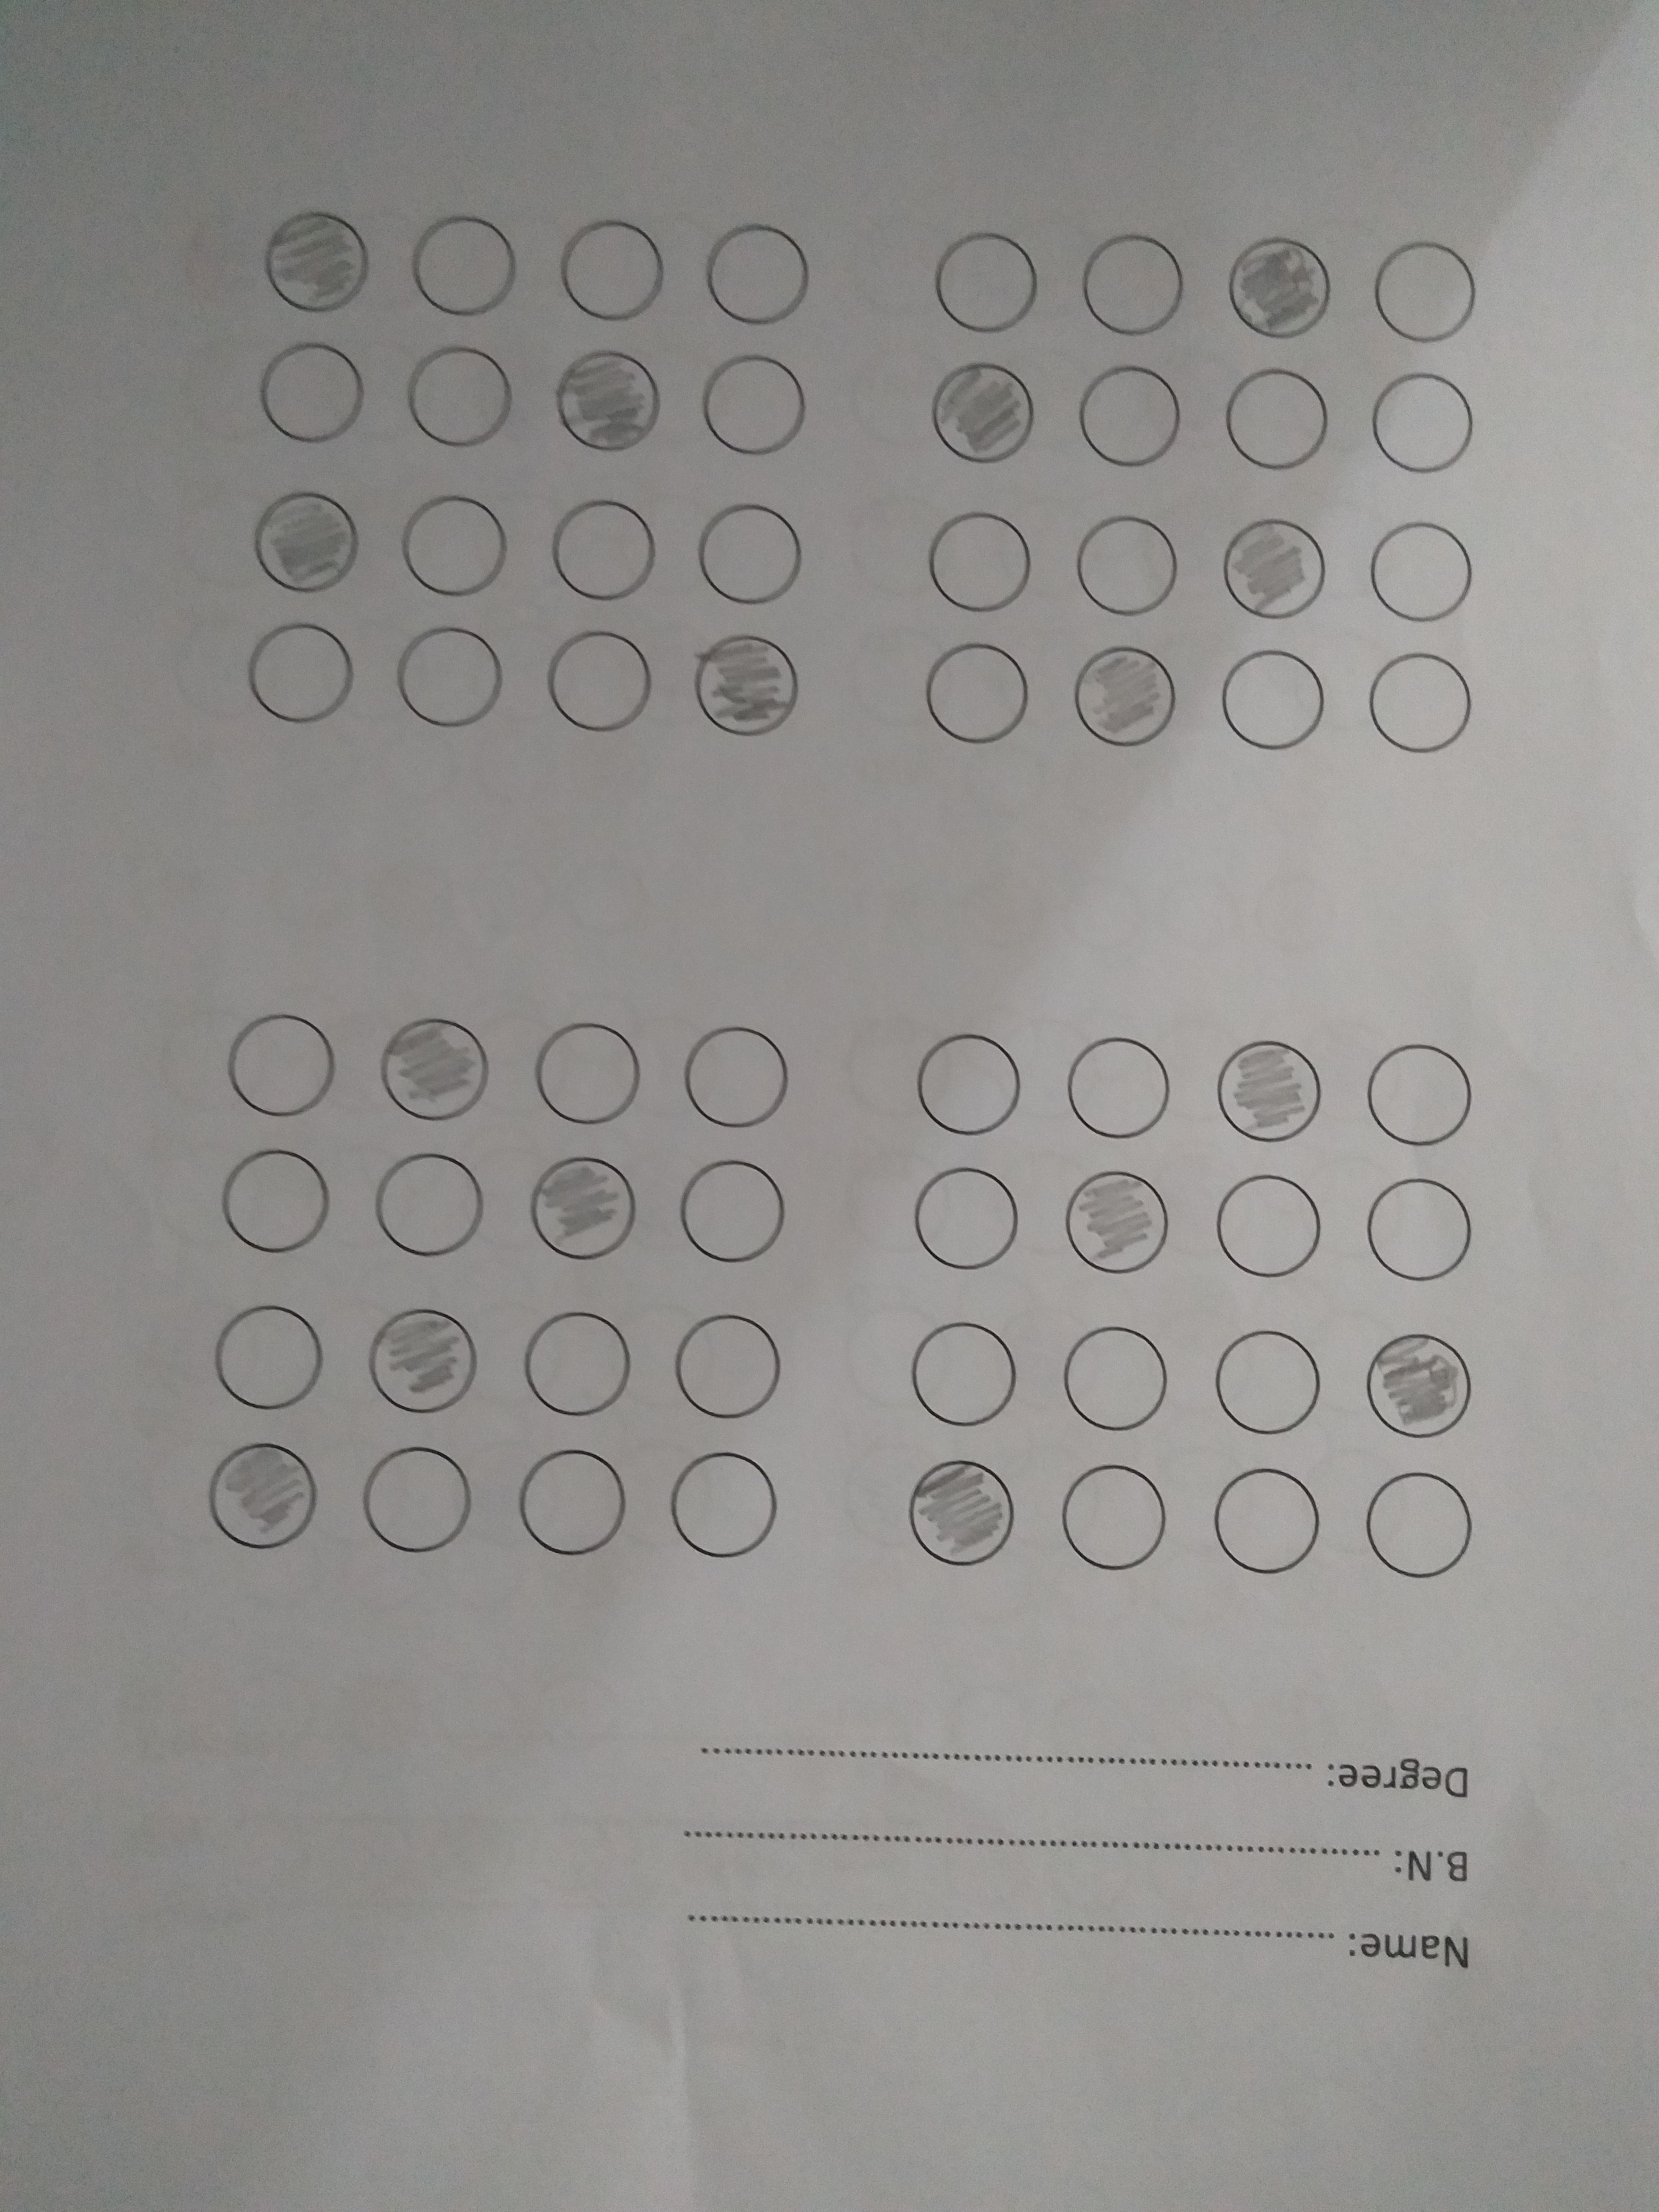not-c: (507, 1444, 645, 1562), (694, 218, 817, 333), (674, 1153, 798, 1268), (406, 209, 532, 322), (551, 216, 676, 329), (694, 350, 819, 463), (687, 495, 812, 608), (389, 622, 514, 735), (1354, 650, 1480, 763), (1066, 510, 1192, 624), (917, 507, 1042, 620), (1363, 235, 1488, 348), (1356, 1040, 1481, 1153), (1358, 1172, 1483, 1285), (1349, 1468, 1474, 1581), (1049, 1461, 1175, 1575), (908, 1317, 1033, 1430), (1056, 1320, 1182, 1433), (910, 1029, 1035, 1143), (671, 1019, 796, 1132), (202, 1303, 328, 1416), (512, 1308, 638, 1421), (397, 343, 521, 456), (249, 338, 373, 451), (394, 491, 518, 604), (545, 493, 669, 606), (532, 624, 655, 737), (244, 618, 368, 732), (913, 636, 1037, 749), (1208, 646, 1331, 759), (1363, 517, 1486, 631), (1368, 368, 1492, 481), (1215, 362, 1338, 475), (1063, 362, 1187, 475), (927, 228, 1051, 341), (1075, 233, 1199, 347), (1204, 1463, 1328, 1576), (1211, 1331, 1335, 1444), (1211, 1167, 1335, 1280), (910, 1163, 1033, 1277), (1056, 1031, 1180, 1144), (525, 1015, 648, 1129), (220, 1008, 343, 1122), (211, 1146, 335, 1259), (371, 1148, 495, 1261), (667, 1312, 791, 1425), (664, 1447, 788, 1561), (354, 1442, 477, 1555)
taken-c: (375, 1010, 500, 1123), (199, 1442, 324, 1555), (685, 631, 810, 744), (551, 341, 676, 455), (260, 204, 385, 317), (519, 1151, 645, 1264), (1209, 1036, 1335, 1150), (901, 1456, 1025, 1569), (355, 1303, 479, 1416), (244, 489, 368, 603), (1058, 1165, 1182, 1278), (1358, 1329, 1481, 1442), (1216, 512, 1331, 624), (1222, 235, 1340, 341), (931, 357, 1042, 469), (1070, 641, 1178, 747)
